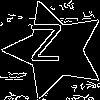Z: (30, 25, 62, 70)
